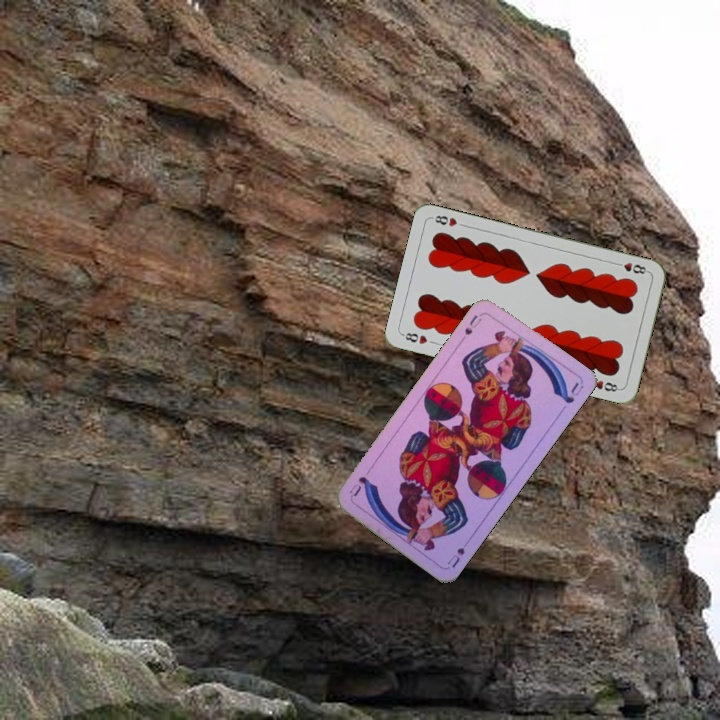H8: (611, 258, 651, 277), (399, 328, 439, 347)
SU: (443, 534, 474, 571), (461, 309, 485, 338)
